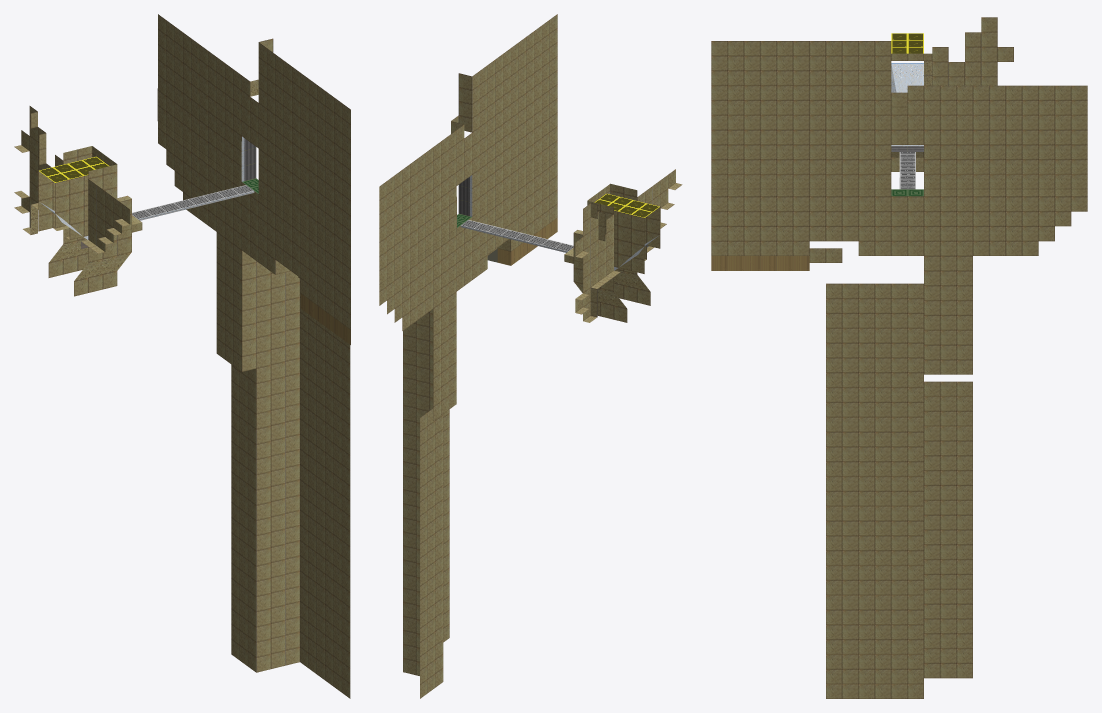
Rendered from geometry-10-room3part1.FBX.
3 renders of one model, left to right at view 1: azimuth 30°, elevation 25°; view 2: azimuth 150°, elevation 25°; view 3: azimuth 270°, elevation 25°, orthographic. The views are drawn at different scales.
Visible parts, largest first — view 1: room3-part1; view 2: room3-part1; view 3: room3-part1.
Part boxes in pixels (x1,y1,x2,y2): room3-part1: [14, 14, 350, 698]; room3-part1: [379, 14, 682, 698]; room3-part1: [711, 17, 1087, 698].
Size of the model in its own units: 360 by 850 by 460.
1 material, 1 textured.
